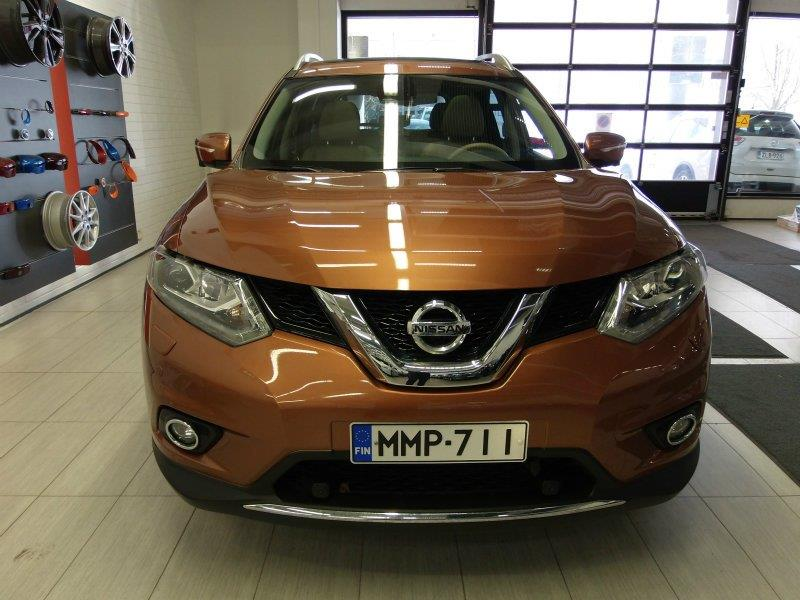license: (349, 423, 526, 469)
